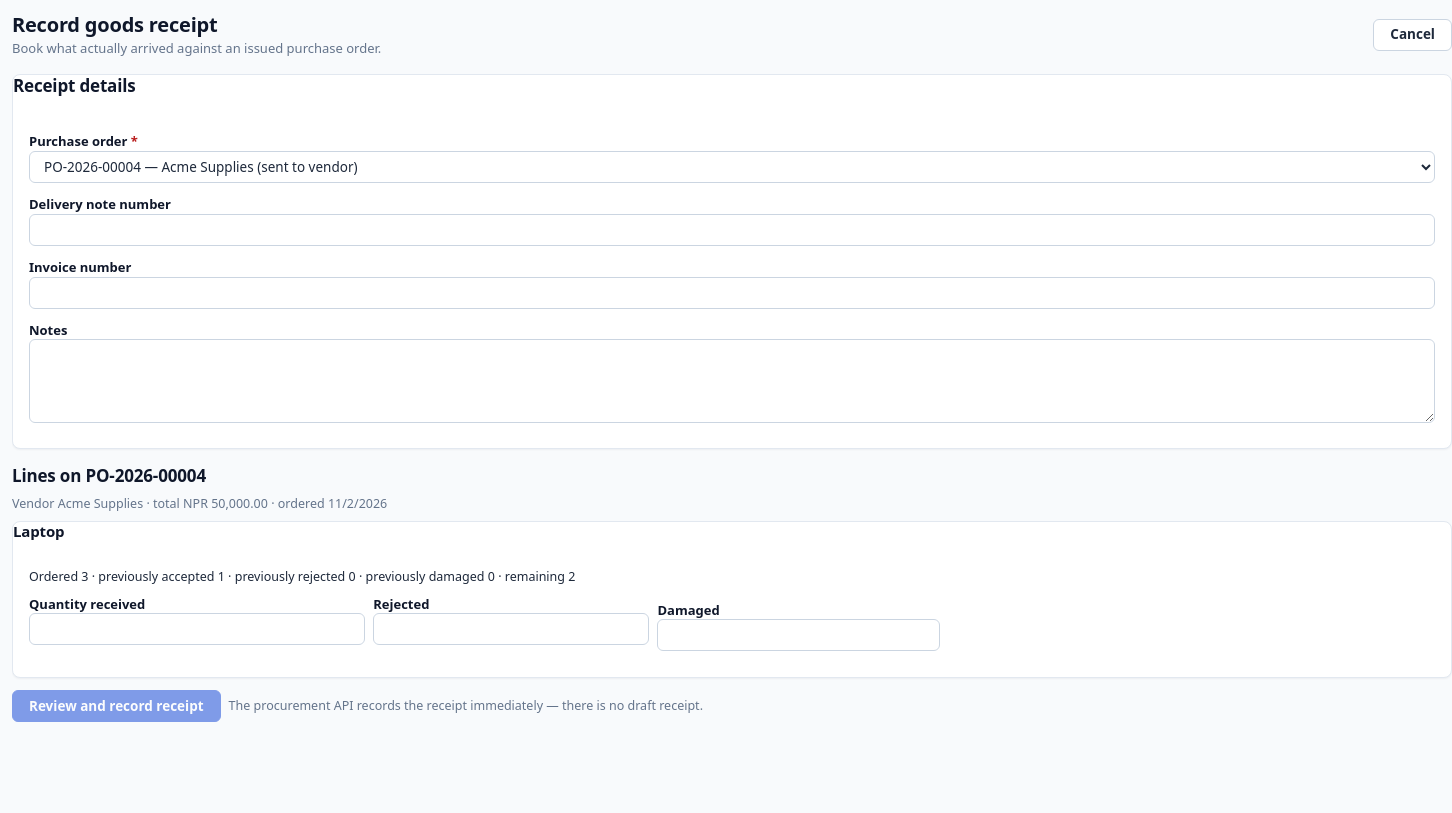
Test case: Goods receipt form › requires a reason for rejected units
Step 1. Type "2" into the number field named "received quantity for Laptop" → (197, 629), box [29,613,365,645]
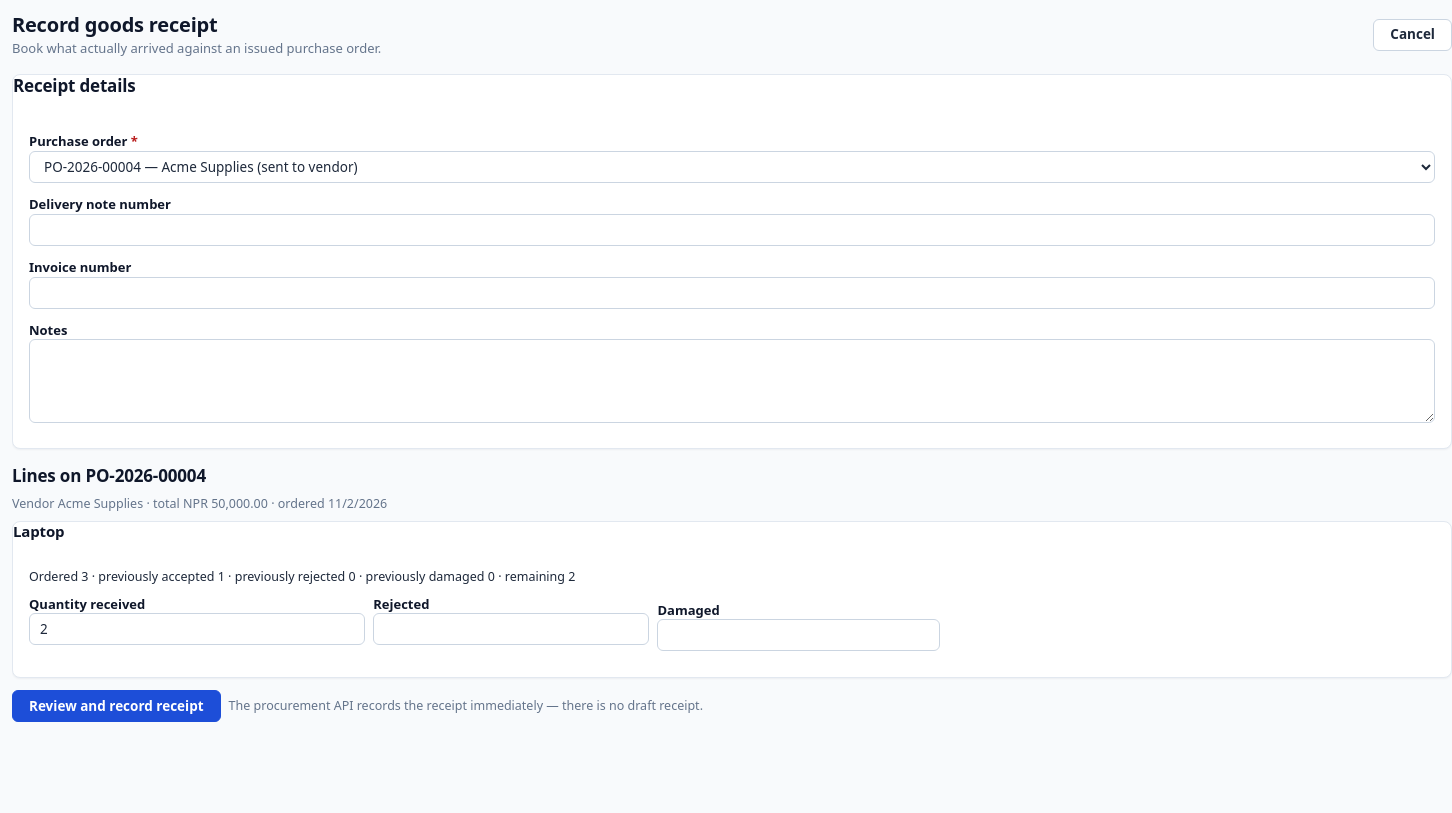
Step 2. Type "1" into the number field named "rejected quantity for Laptop" → (511, 629), box [373,613,650,645]
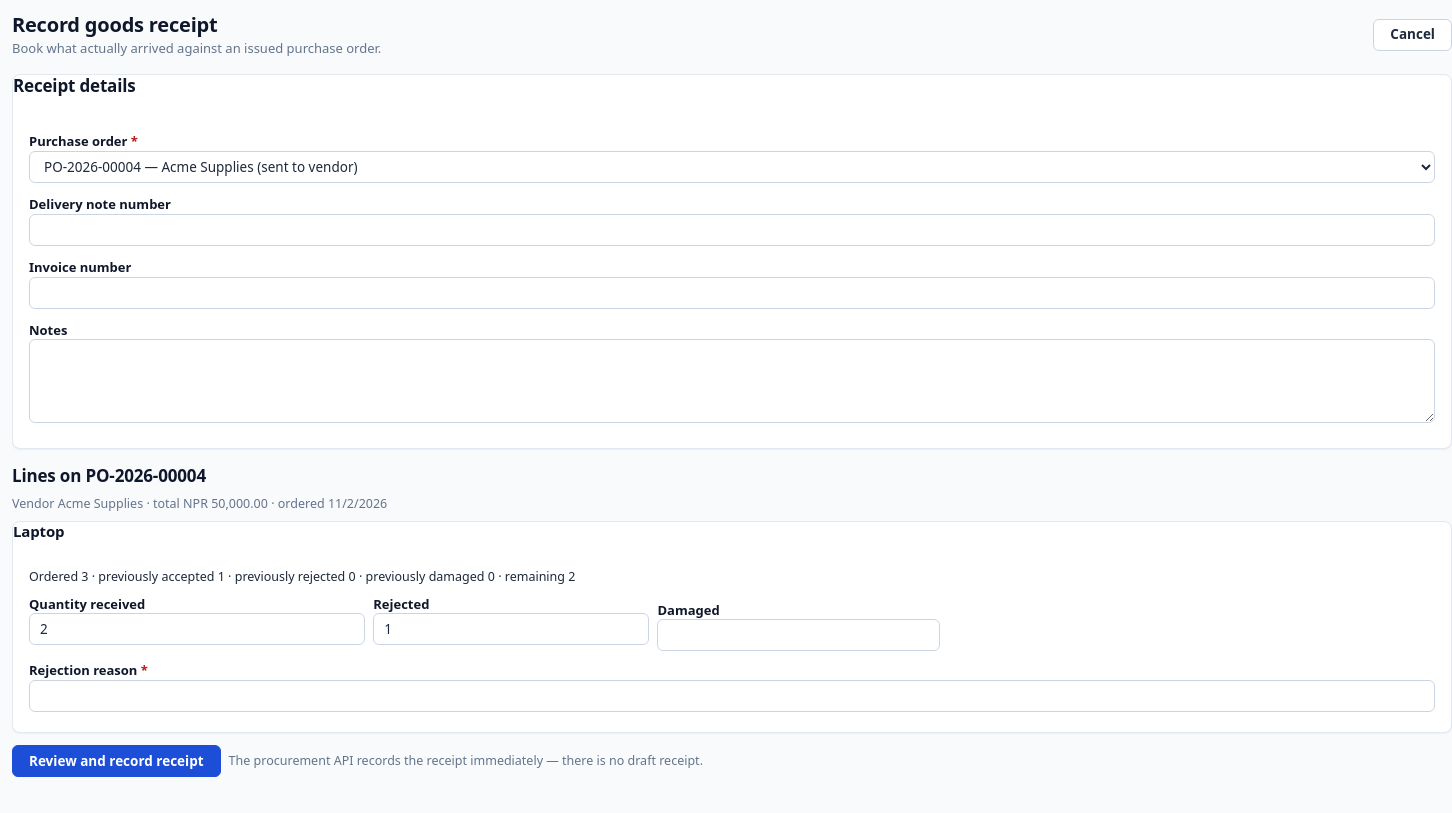
Step 3. Click the button "Review and record receipt" → (116, 761), box [12,745,221,777]
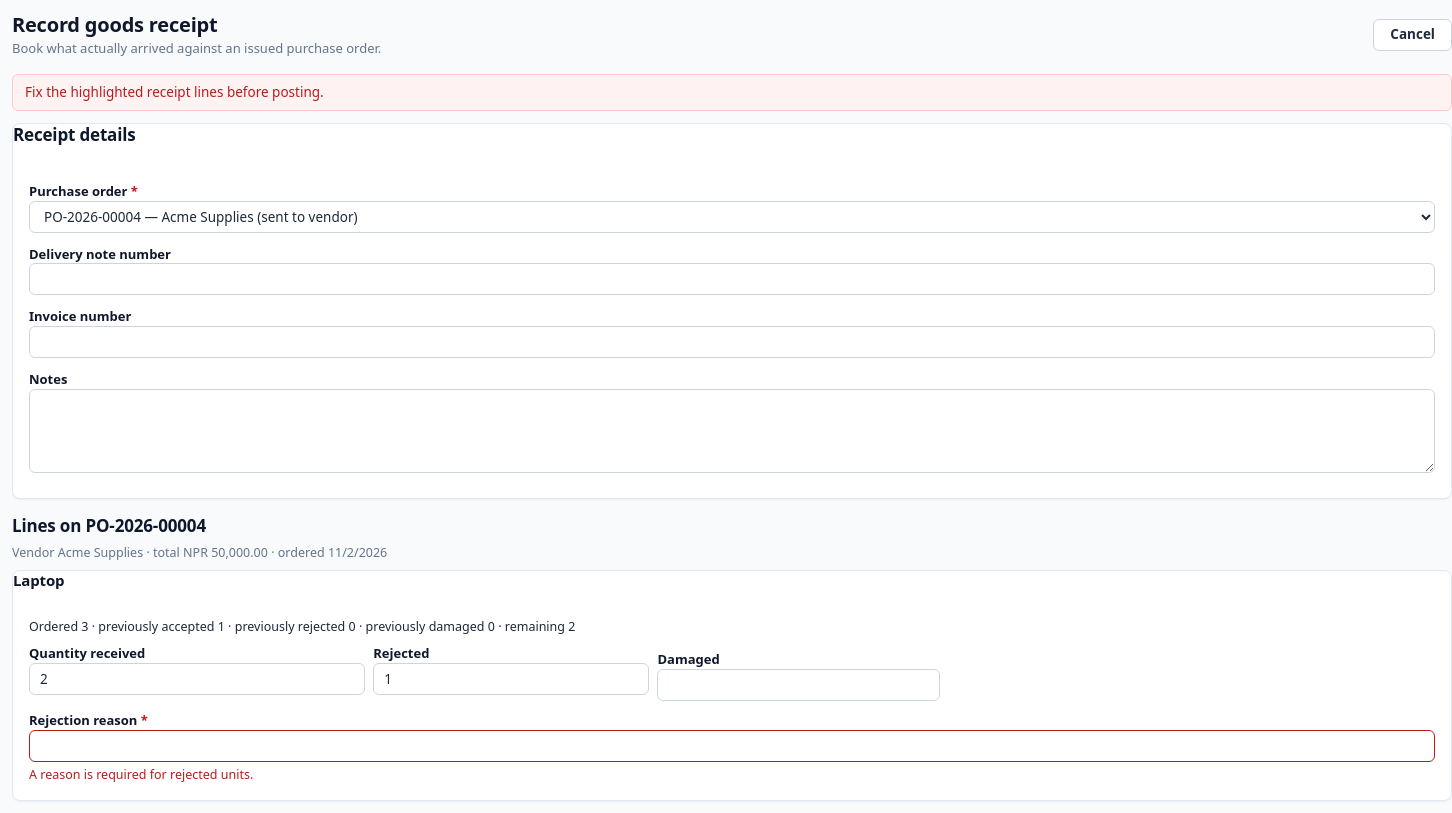
Result: the text "A reason is required for rejected units." is shown at [29,766,253,783]
